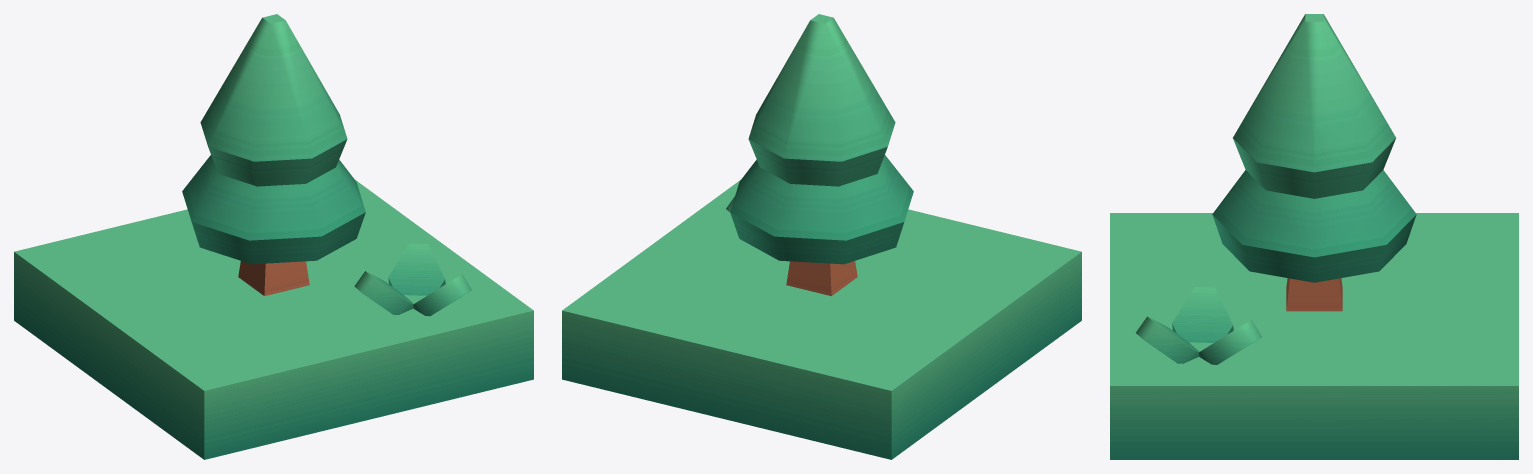
The model's file is tile-tree.glb.
The picture shows the model from 3 angles, left to right: view 1: azimuth 30°, elevation 25°; view 2: azimuth 150°, elevation 25°; view 3: azimuth 270°, elevation 25°; orthographic projection. The views are drawn at different scales.
Visible parts, largest first — view 1: tile-tree; view 2: tile-tree; view 3: tile-tree.
Boxes of the visible parts, x1=… form: tile-tree: x1=14, y1=14, x2=533, y2=459; tile-tree: x1=562, y1=14, x2=1081, y2=459; tile-tree: x1=1110, y1=14, x2=1518, y2=459.
Size of the model in its own units: 1 by 0.96 by 1.
1 material, 1 textured.
